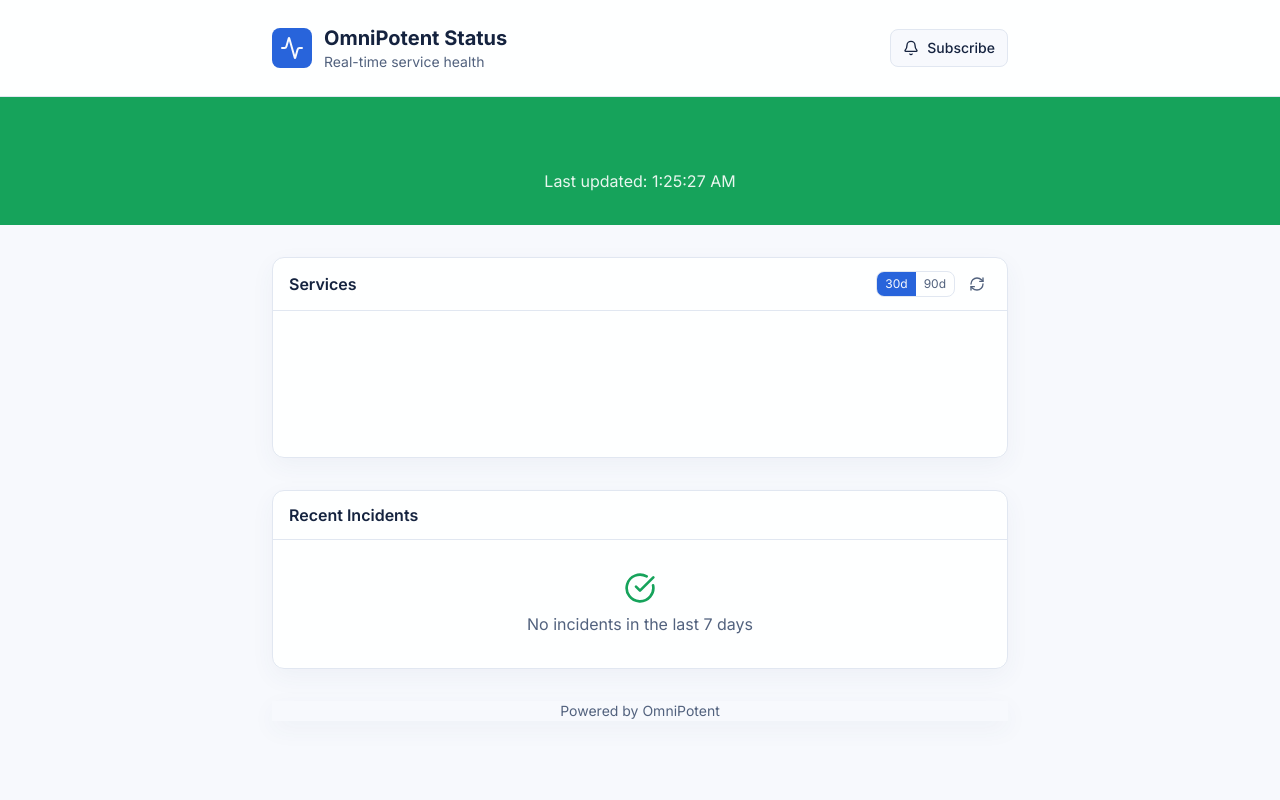
Test: Status page uptime › shows the 90-day figures when the 90d view is selected
Click the button "90d" at [935, 284], box x1=916 y1=272 x2=954 y2=296
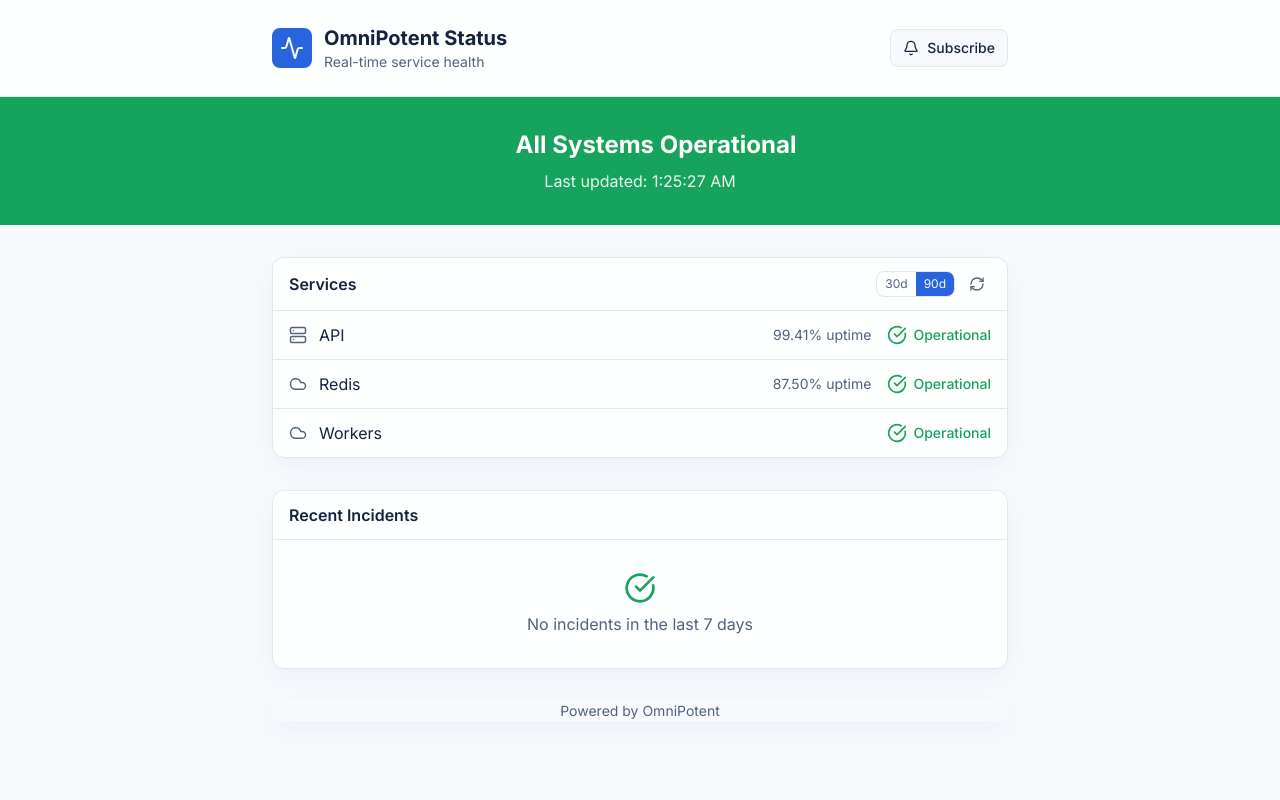
Result: the text "99.41% uptime" is shown at x1=773 y1=325 x2=872 y2=345
Result: the text "87.50% uptime" is shown at x1=773 y1=374 x2=872 y2=394
